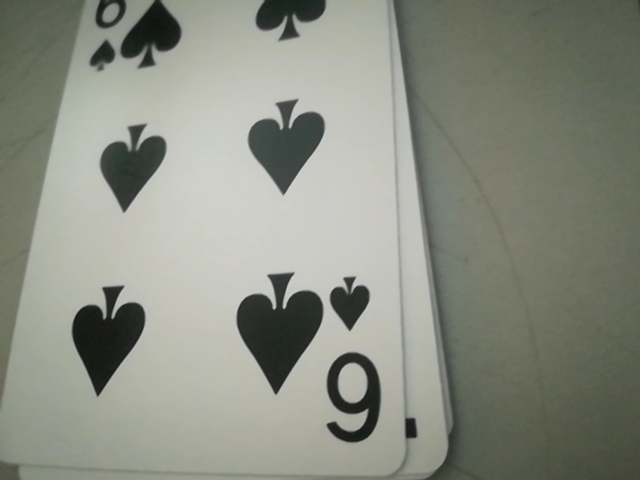ht 6: (321, 268, 387, 454)
